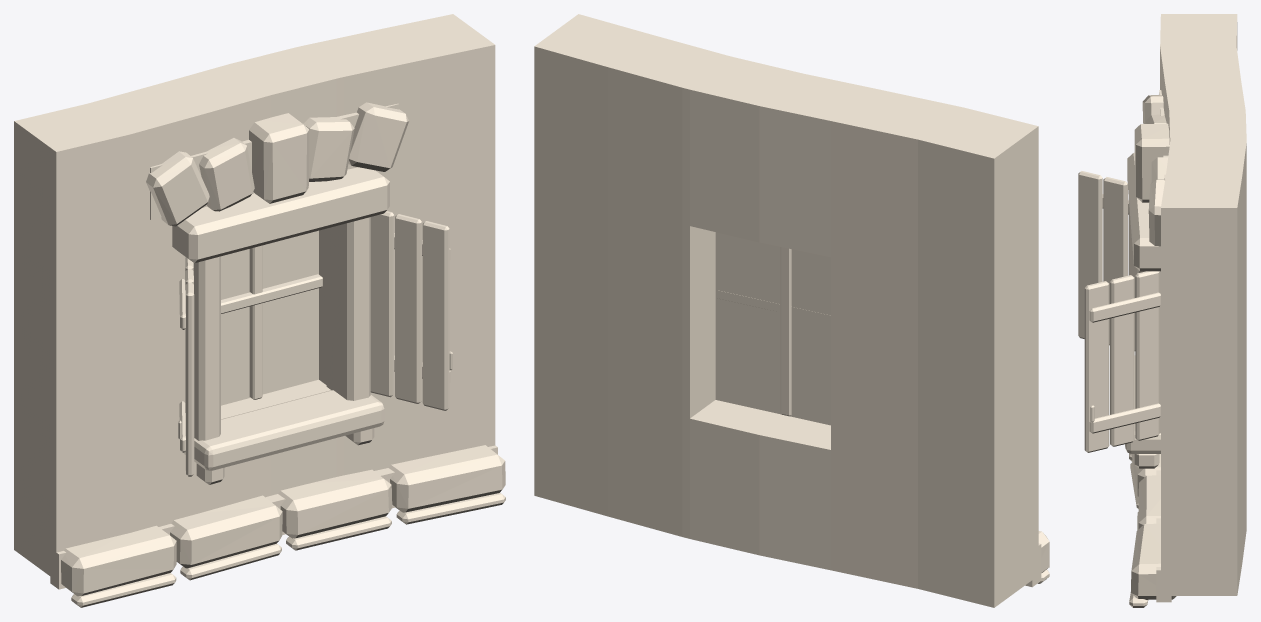
Rendered from SM_VK_Wall_StoneUp_Window.fbx.
The picture shows the model from 3 angles, left to right: view 1: azimuth 30°, elevation 25°; view 2: azimuth 150°, elevation 25°; view 3: azimuth 270°, elevation 25°; orthographic projection. The views are drawn at different scales.
Visible parts, largest first — view 1: SM_VK_Wall_StoneUp_Window.001; view 2: SM_VK_Wall_StoneUp_Window.001; view 3: SM_VK_Wall_StoneUp_Window.001.
Boxes of the visible parts, x1=… form: SM_VK_Wall_StoneUp_Window.001: x1=14, y1=14, x2=505, y2=607; SM_VK_Wall_StoneUp_Window.001: x1=534, y1=14, x2=1049, y2=607; SM_VK_Wall_StoneUp_Window.001: x1=1078, y1=14, x2=1246, y2=607.
Size of the model in its own units: 3 by 2.91 by 1.1.
